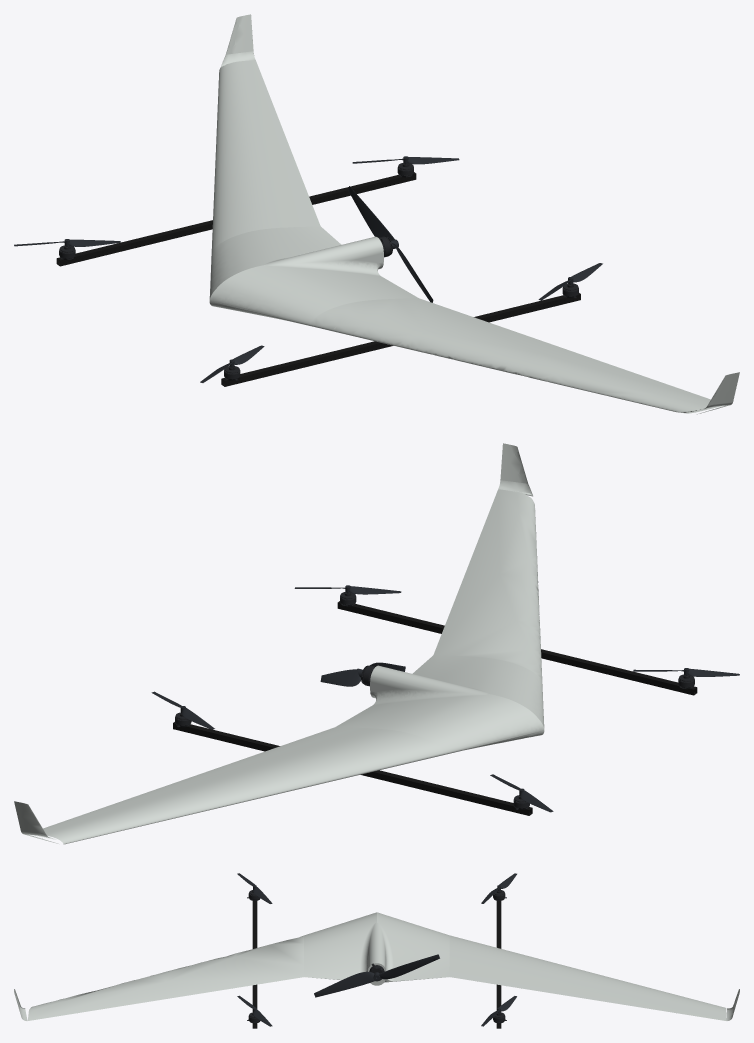
File: Assem1.glb
3 views of the same model, one above another, from view 1: azimuth 30°, elevation 25°; view 2: azimuth 150°, elevation 25°; view 3: azimuth 270°, elevation 25° (orthographic). The views are drawn at different scales.
Visible parts, largest first — view 1: HAN, TUBE_1, TUBE_2, PROPELLER_PUSHER_1; view 2: HAN, TUBE_2, TUBE_1, PROPELLER_PUSHER_1; view 3: HAN, PROPELLER_PUSHER_1, TUBE_2, TUBE_1.
Part boxes in pixels (box(x1,y1,x2,y2)): HAN: box(209, 14, 739, 414); TUBE_1: box(221, 293, 580, 386); TUBE_2: box(56, 172, 416, 266); PROPELLER_PUSHER_1: box(348, 186, 433, 302); HAN: box(14, 443, 544, 844); TUBE_2: box(173, 722, 532, 815); TUBE_1: box(337, 601, 697, 695); PROPELLER_PUSHER_1: box(320, 662, 405, 686); HAN: box(14, 912, 739, 1020); PROPELLER_PUSHER_1: box(314, 954, 439, 997); TUBE_2: box(496, 901, 501, 1028); TUBE_1: box(252, 901, 257, 1028).
Size of the model in its own units: 1.19 by 0.1569 by 2.38.
Materials: 4 (3 with a texture image).
